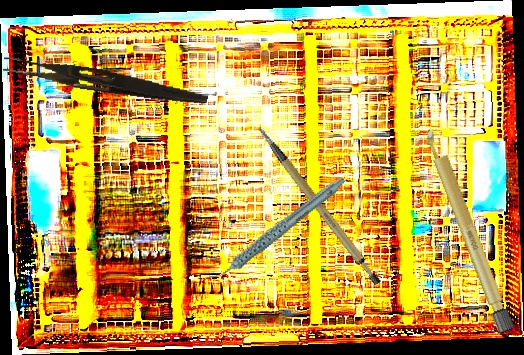Dressing Forceps: (1, 55, 210, 108)
Handpiece: (192, 174, 361, 283)
Scalpel Handle: (256, 110, 384, 299), (420, 122, 516, 337)
